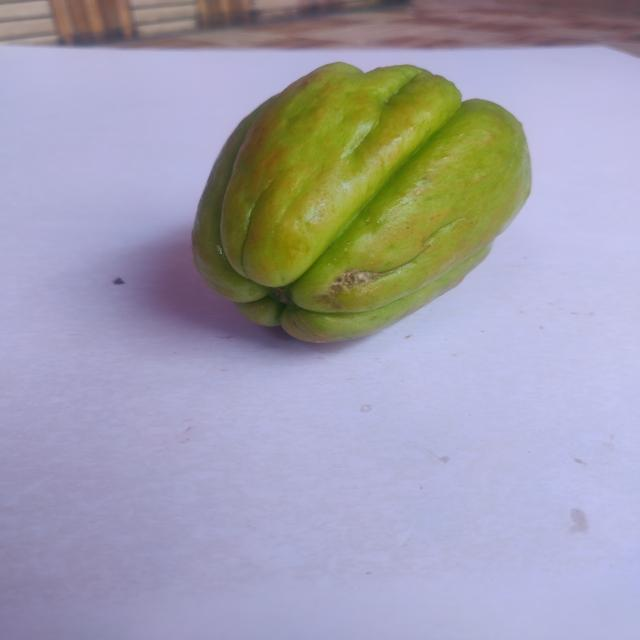Chayote: (142, 58, 544, 376)
